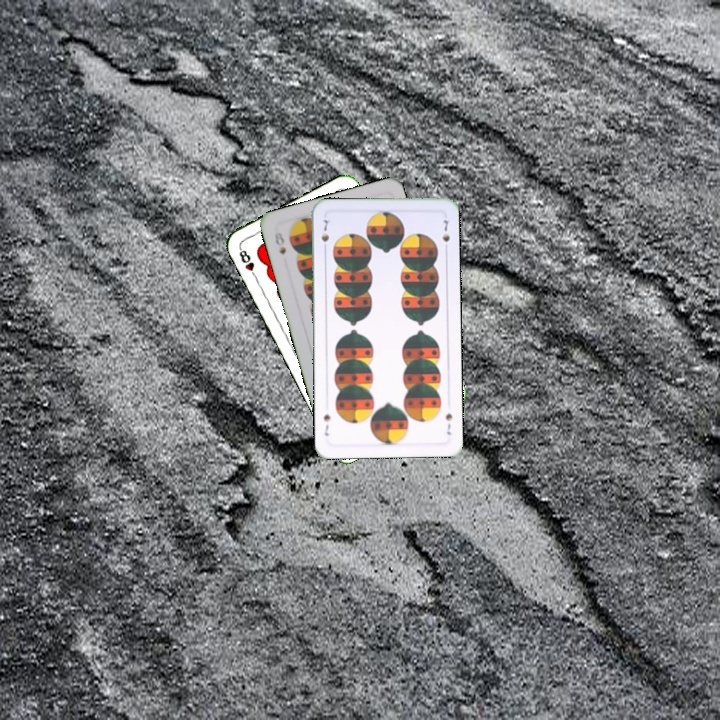H8: (235, 244, 260, 281)
S7: (317, 216, 332, 254), (441, 409, 455, 437)
S8: (270, 228, 289, 257)
